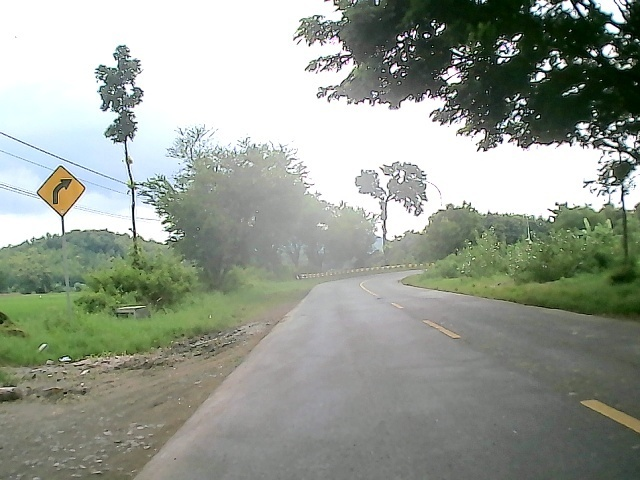Tikungan ke kanan: (35, 164, 88, 221)
